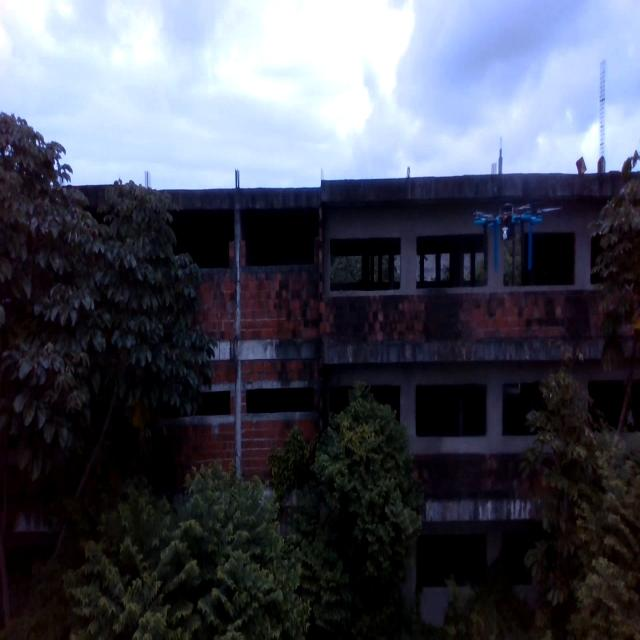-uav-: (463, 175, 554, 311)
